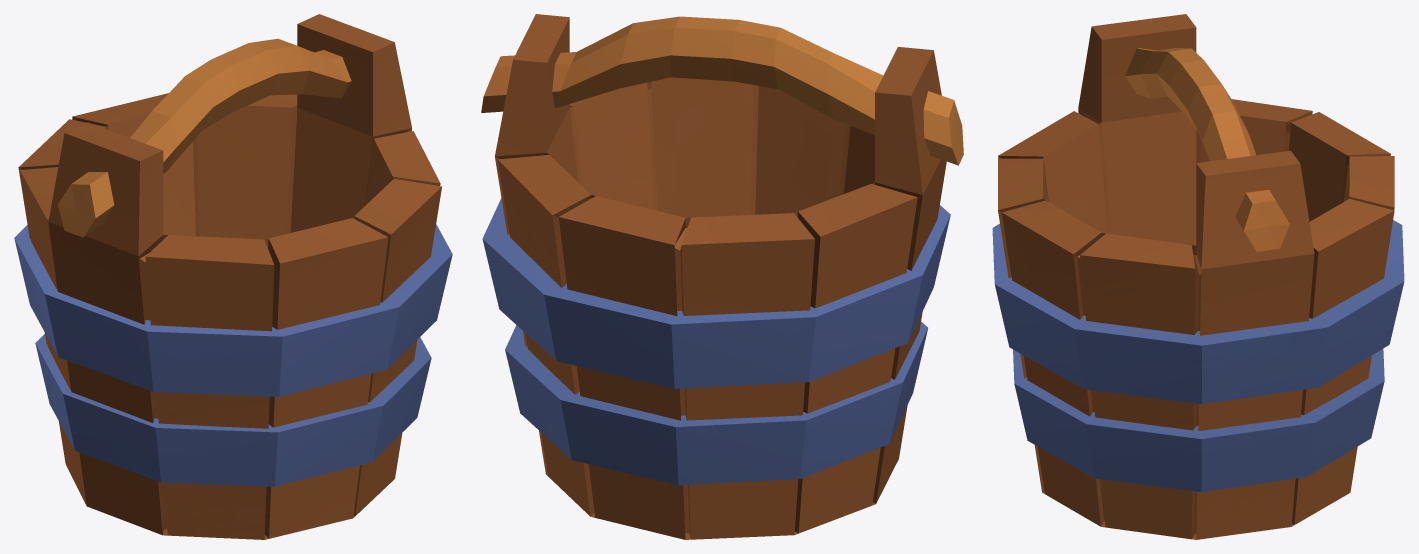
The model's file is MSH_Cubeta.fbx.
3 views of the same model, side by side, from view 1: azimuth 30°, elevation 25°; view 2: azimuth 150°, elevation 25°; view 3: azimuth 270°, elevation 25° (orthographic). The views are drawn at different scales.
Parts seen in each view (by area): view 1: Object009; view 2: Object009; view 3: Object009.
Part boxes in pixels (x1,y1,x2,y2): Object009: [14, 14, 452, 539]; Object009: [481, 14, 963, 539]; Object009: [992, 14, 1404, 539].
Bounding box in the file's own units: 25.01 × 25.92 × 23.48.
